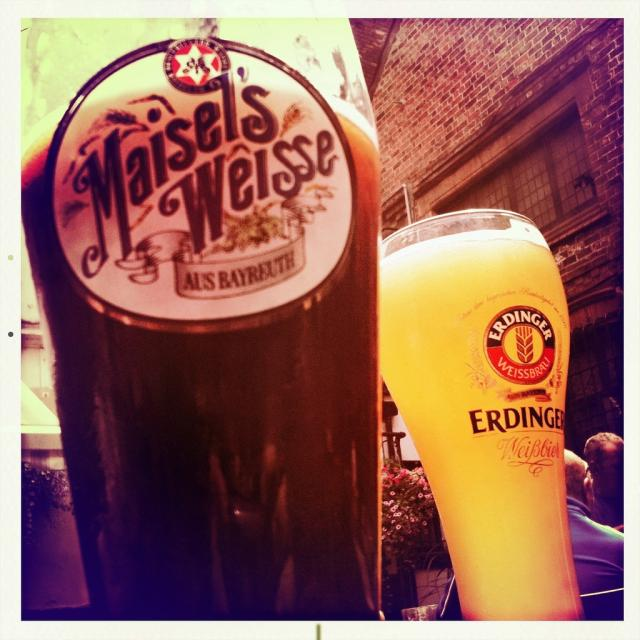erdinger: (454, 289, 570, 442)
